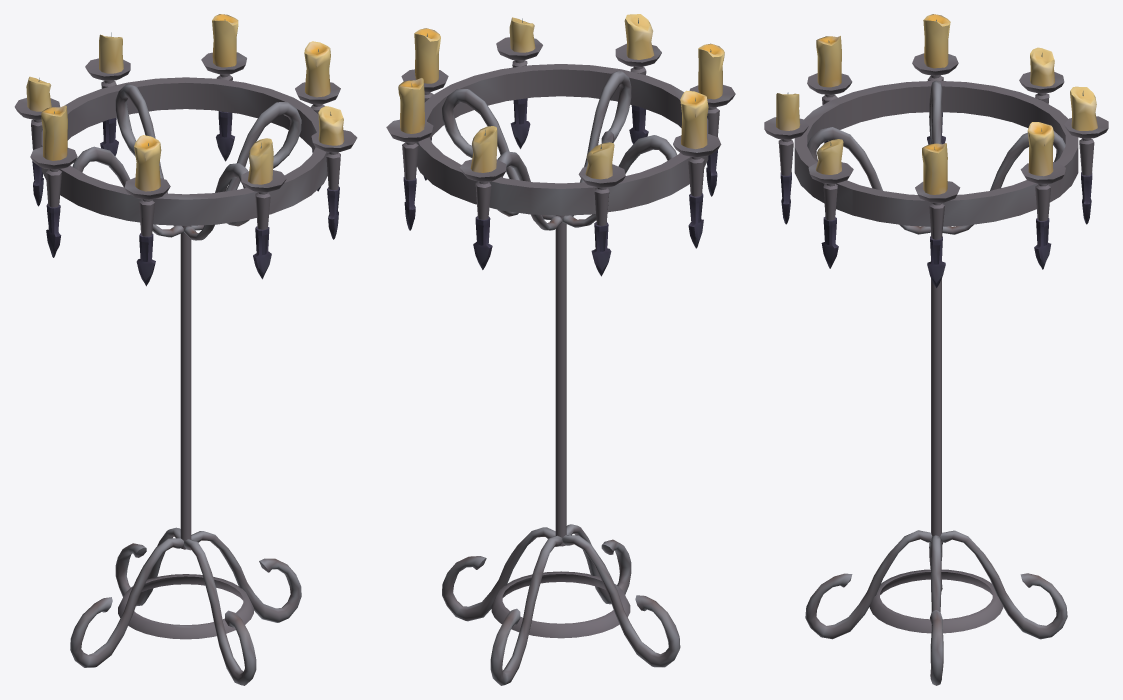
Rendered from candle_stand.glb.
3 views of the same model, side by side, from view 1: azimuth 30°, elevation 25°; view 2: azimuth 150°, elevation 25°; view 3: azimuth 270°, elevation 25° (orthographic). The views are drawn at different scales.
Visible parts, largest first — view 1: candle_stand; view 2: candle_stand; view 3: candle_stand.
Part boxes in pixels (box(x1,y1,x2,y2)): candle_stand: box(14, 14, 357, 685); candle_stand: box(386, 14, 735, 685); candle_stand: box(764, 14, 1108, 685).
Bounding box in the file's own units: 0.7323 × 1.31 × 0.7313.
